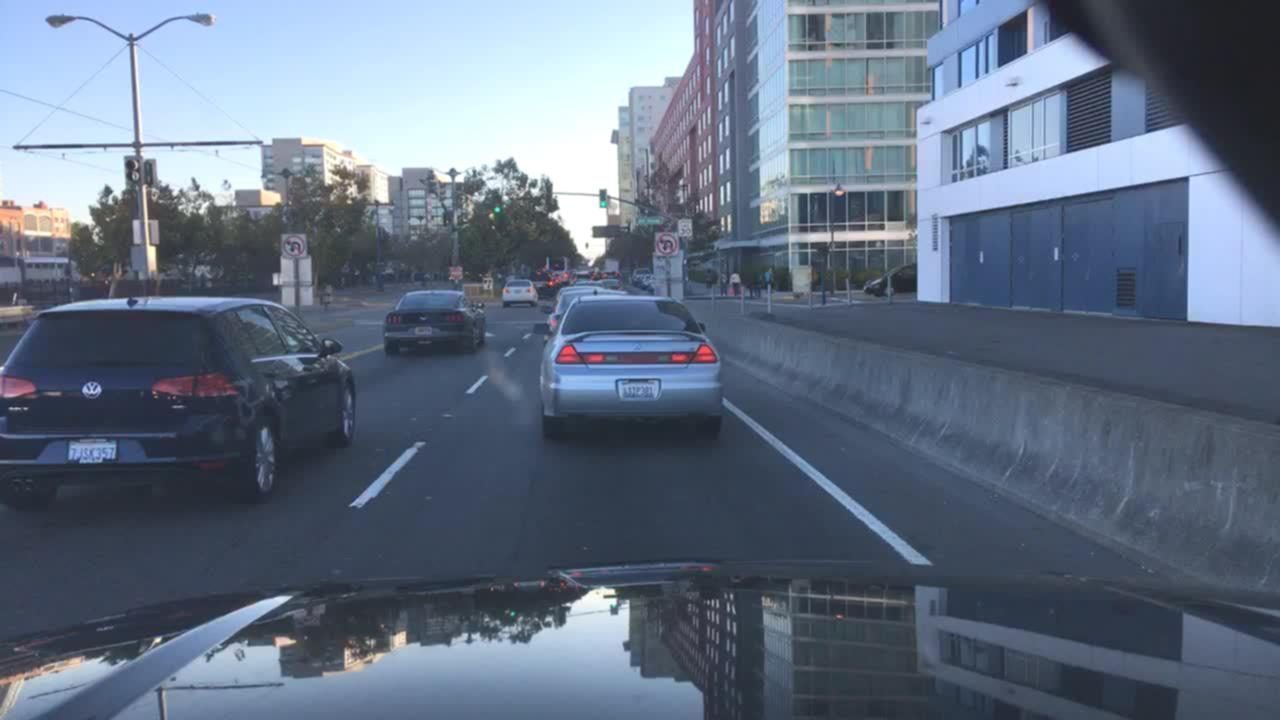Volkswagen: (76, 374, 109, 406)
